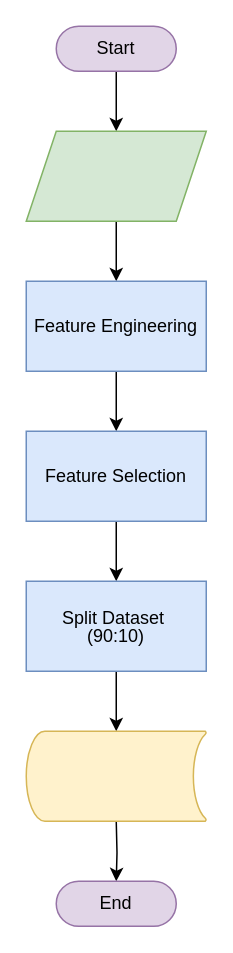
This 233x953 diagram has some shape labels left out. Each missing label, with the centre of its shape:
"Preprocessing Result Dataset" goes at (115,175).
"Training & Test dataset" goes at (115,775).
